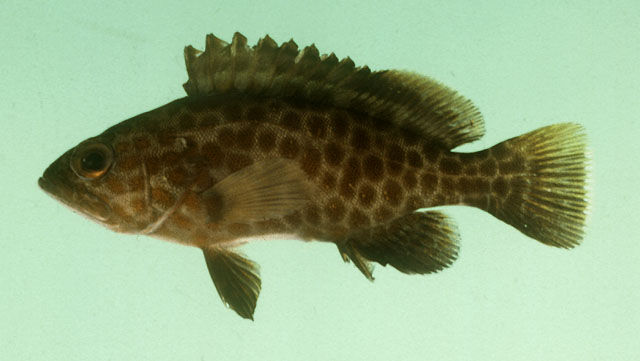fish: (37, 32, 590, 322)
